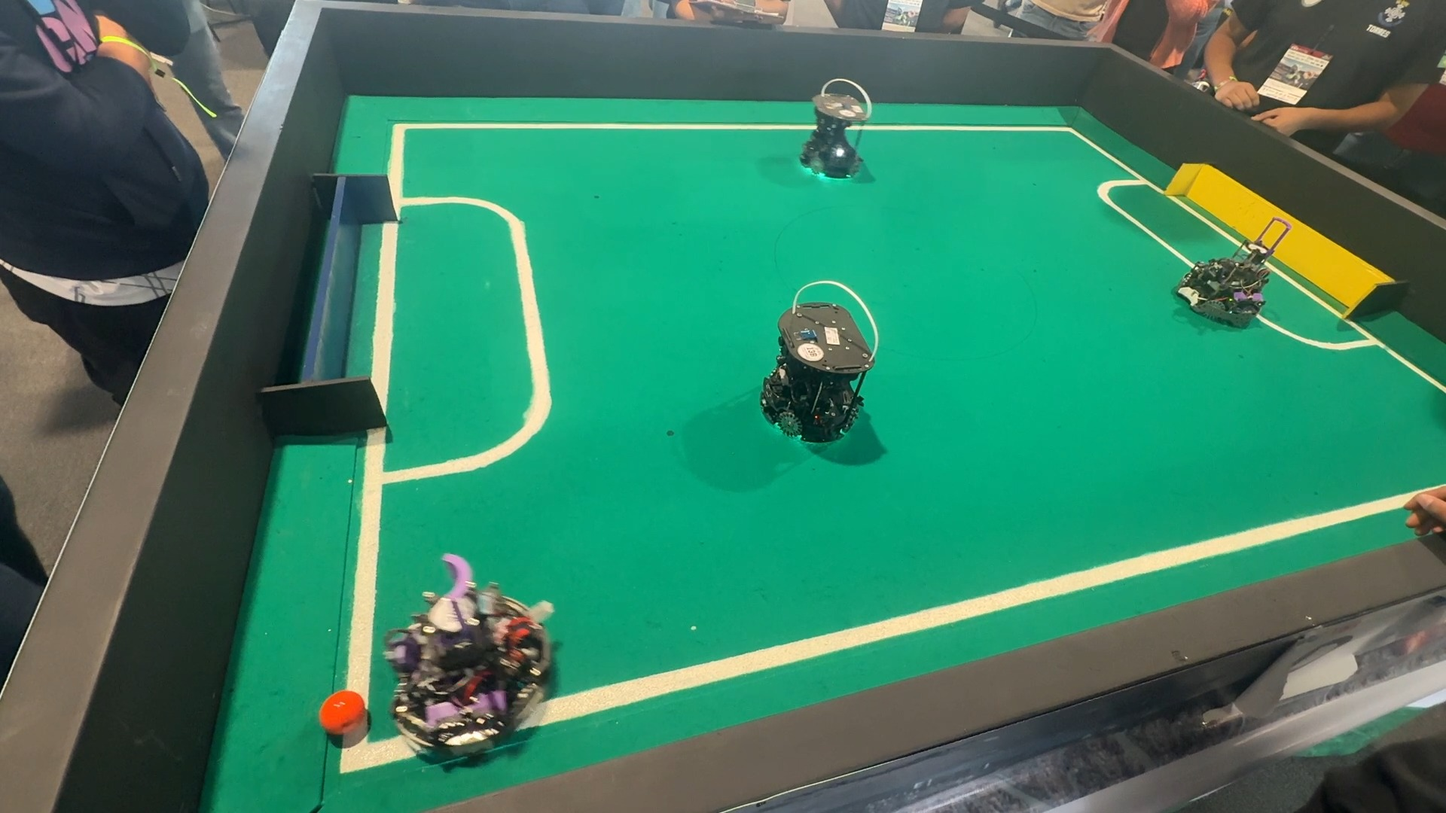Robot: (374, 545, 565, 774), (746, 271, 887, 474), (1165, 215, 1304, 340), (778, 75, 886, 194)
pelota: (314, 694, 368, 745)
